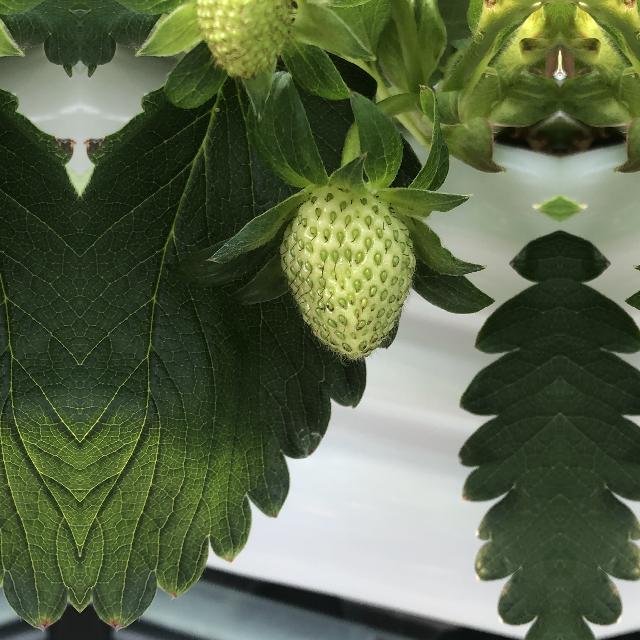Health_25: (282, 176, 414, 368)
